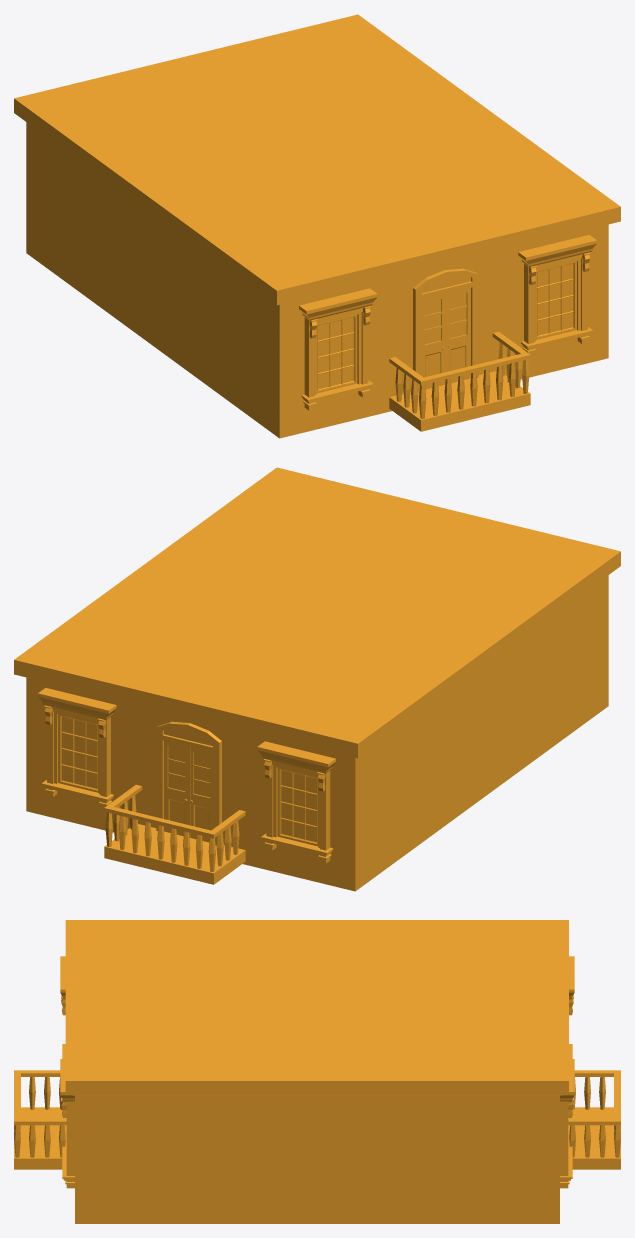
File: SM_Floor_Mid_Balcony_Fb_Steampunk.fbx
3 renders of one model, top to bottom at view 1: azimuth 30°, elevation 25°; view 2: azimuth 150°, elevation 25°; view 3: azimuth 270°, elevation 25°, orthographic. The views are drawn at different scales.
Parts seen in each view (by area): view 1: floor-mid-balcony-fb-steampunk; view 2: floor-mid-balcony-fb-steampunk; view 3: floor-mid-balcony-fb-steampunk.
Boxes of the visible parts, left/top/right/bottom form: floor-mid-balcony-fb-steampunk: left=14, top=14, right=620, bottom=438; floor-mid-balcony-fb-steampunk: left=14, top=467, right=620, bottom=891; floor-mid-balcony-fb-steampunk: left=14, top=920, right=620, bottom=1223.
Size of the model in its own units: 9.41 by 4 by 15.01.
